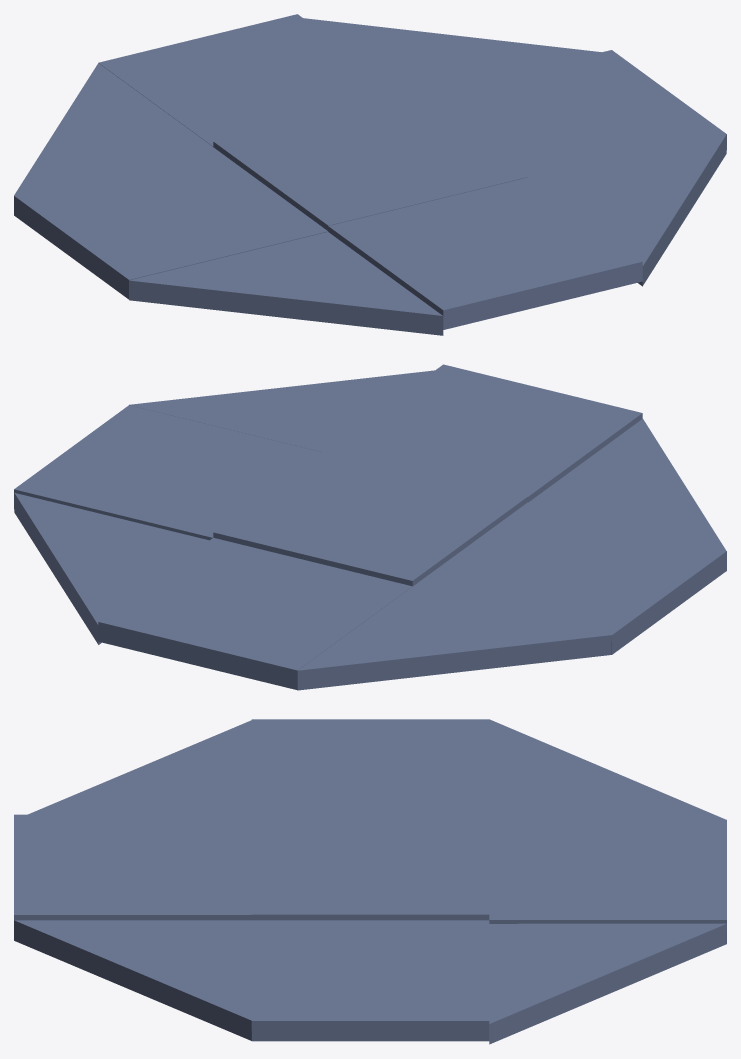
The picture shows the model from 3 angles, top to bottom: view 1: azimuth 30°, elevation 25°; view 2: azimuth 150°, elevation 25°; view 3: azimuth 270°, elevation 25°; orthographic projection. The views are drawn at different scales.
Parts seen in each view (by area): view 1: floor.389; view 2: floor.389; view 3: floor.389.
Boxes of the visible parts, x1,y1,x2,y2 form: floor.389: [14, 14, 726, 335]; floor.389: [14, 364, 726, 690]; floor.389: [14, 719, 726, 1044].
Bounding box in the file's own units: 632 × 28.99 × 632.
